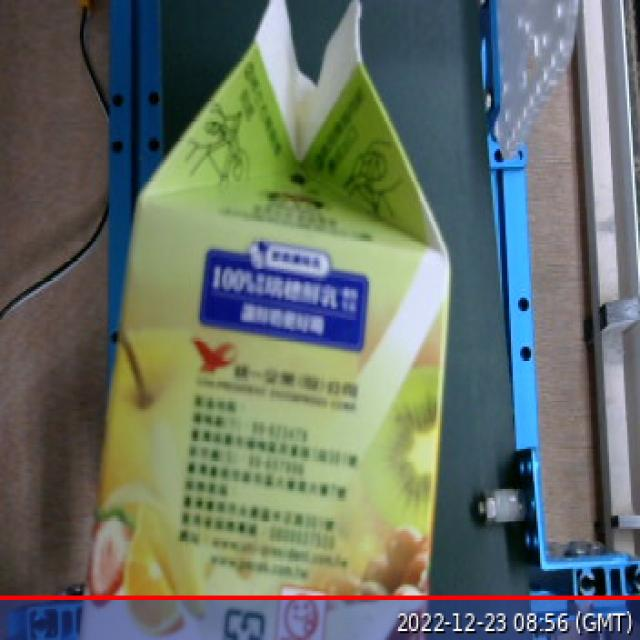non_white_jug: (57, 2, 465, 637)
